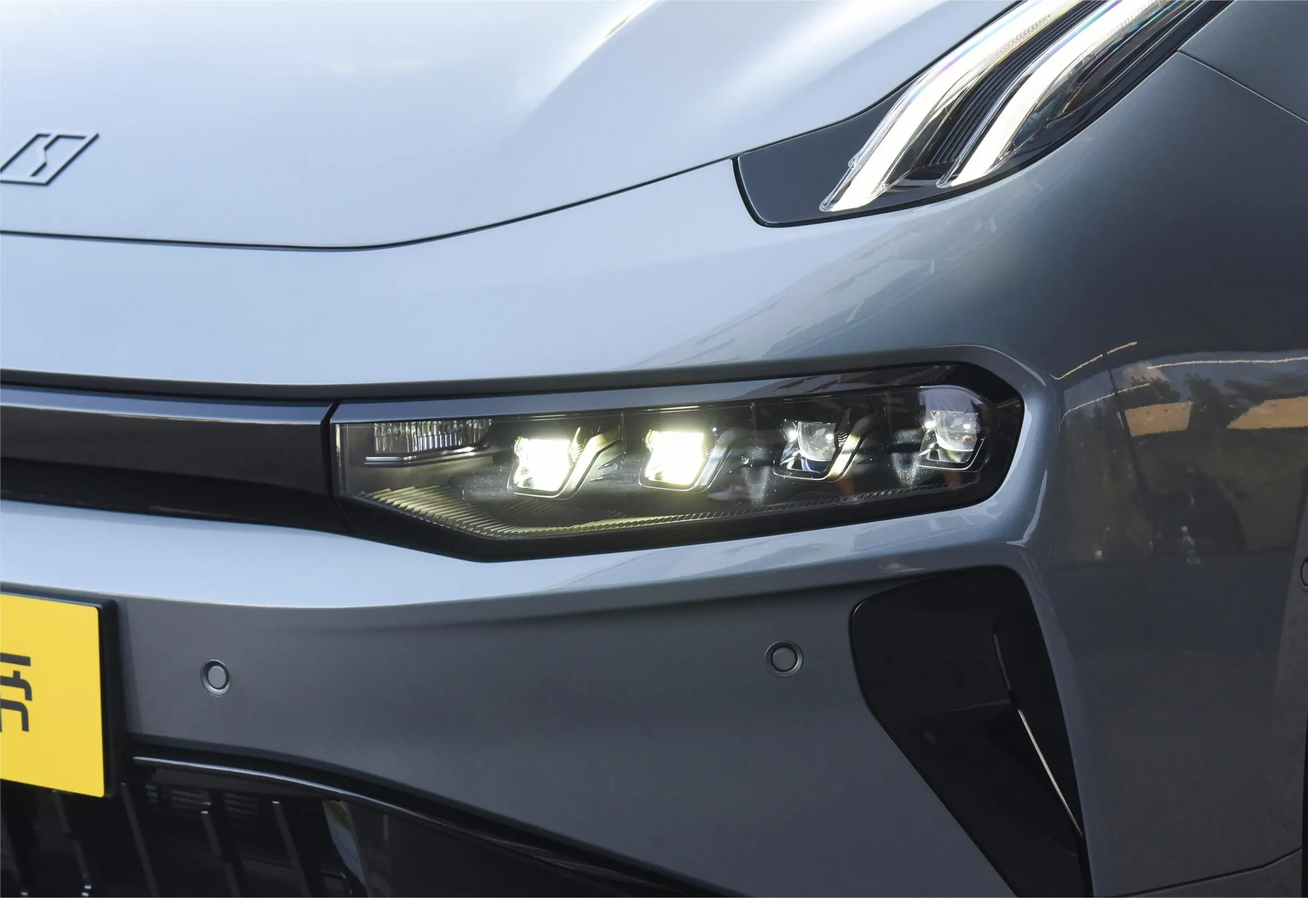ZEEKR: (1, 131, 98, 185)
